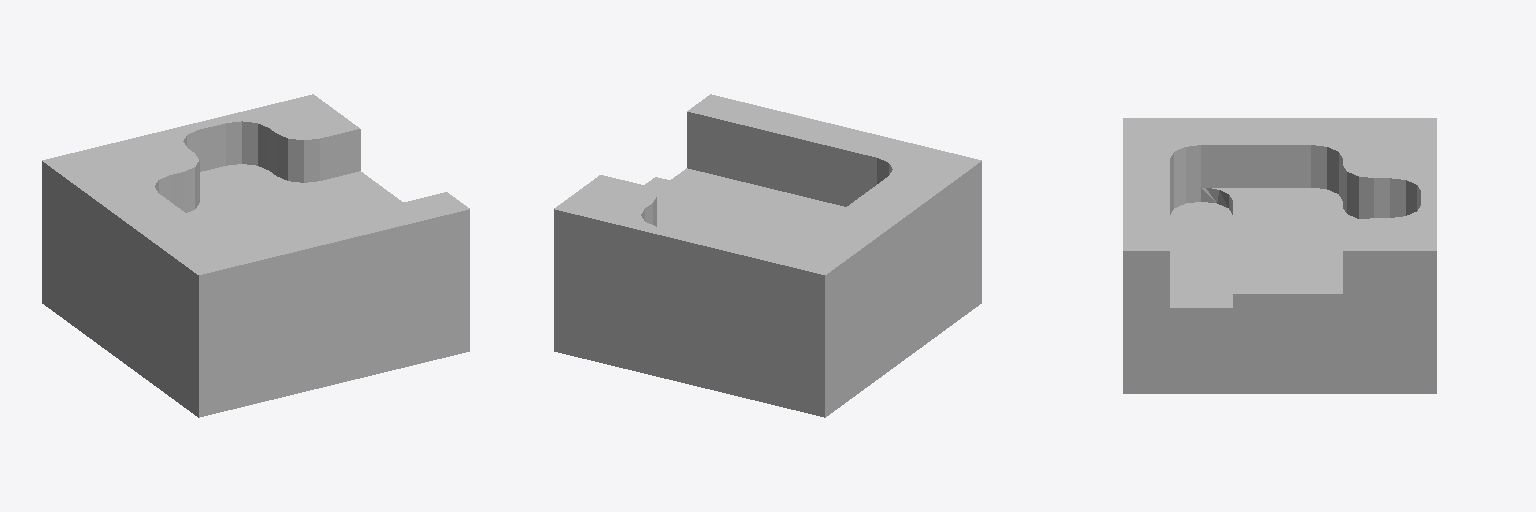
File: dask.obj
3 views of the same model, side by side, from view 1: azimuth 30°, elevation 25°; view 2: azimuth 150°, elevation 25°; view 3: azimuth 270°, elevation 25° (orthographic).
Parts seen in each view (by area): view 1: 1; view 2: 1; view 3: 1.
Boxes of the visible parts, <box> form: 1: <box>42,94,469,417</box>; 1: <box>554,94,981,417</box>; 1: <box>1123,118,1436,393</box>.
Bounding box in the file's own units: 100 × 50 × 100.